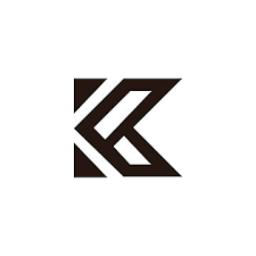k: (51, 54, 197, 196)
